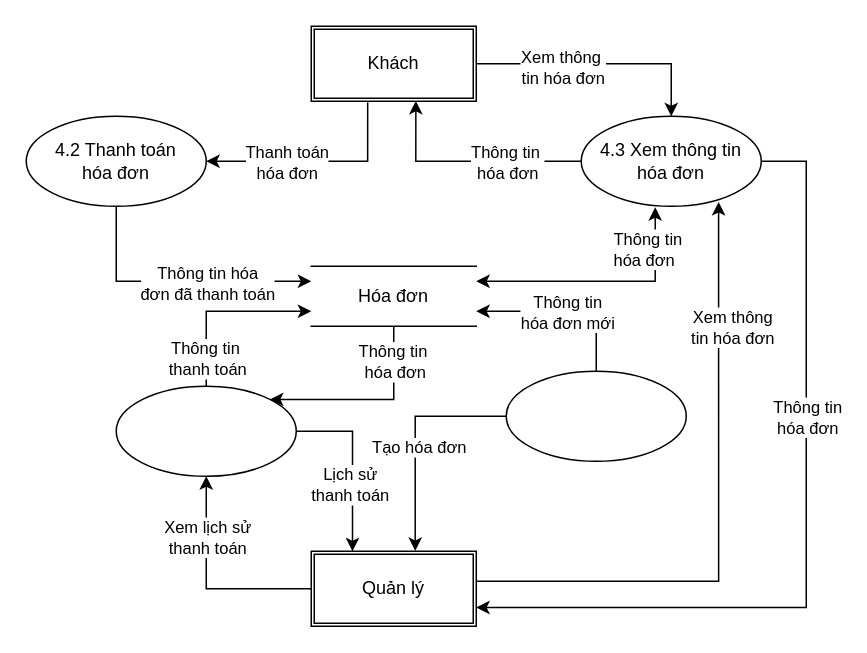
Image size: 867x653. Some labels were removed from this diagram. The shapes that lost their labels are listed below. From the top down, each one's box as (x1, y1, x2, y2) in pixels, then its label:
(115, 385, 296, 476): 4.1 Xem lịch sử thanh toán
(505, 370, 686, 461): 4.4 Tạo mới hóa đơn
